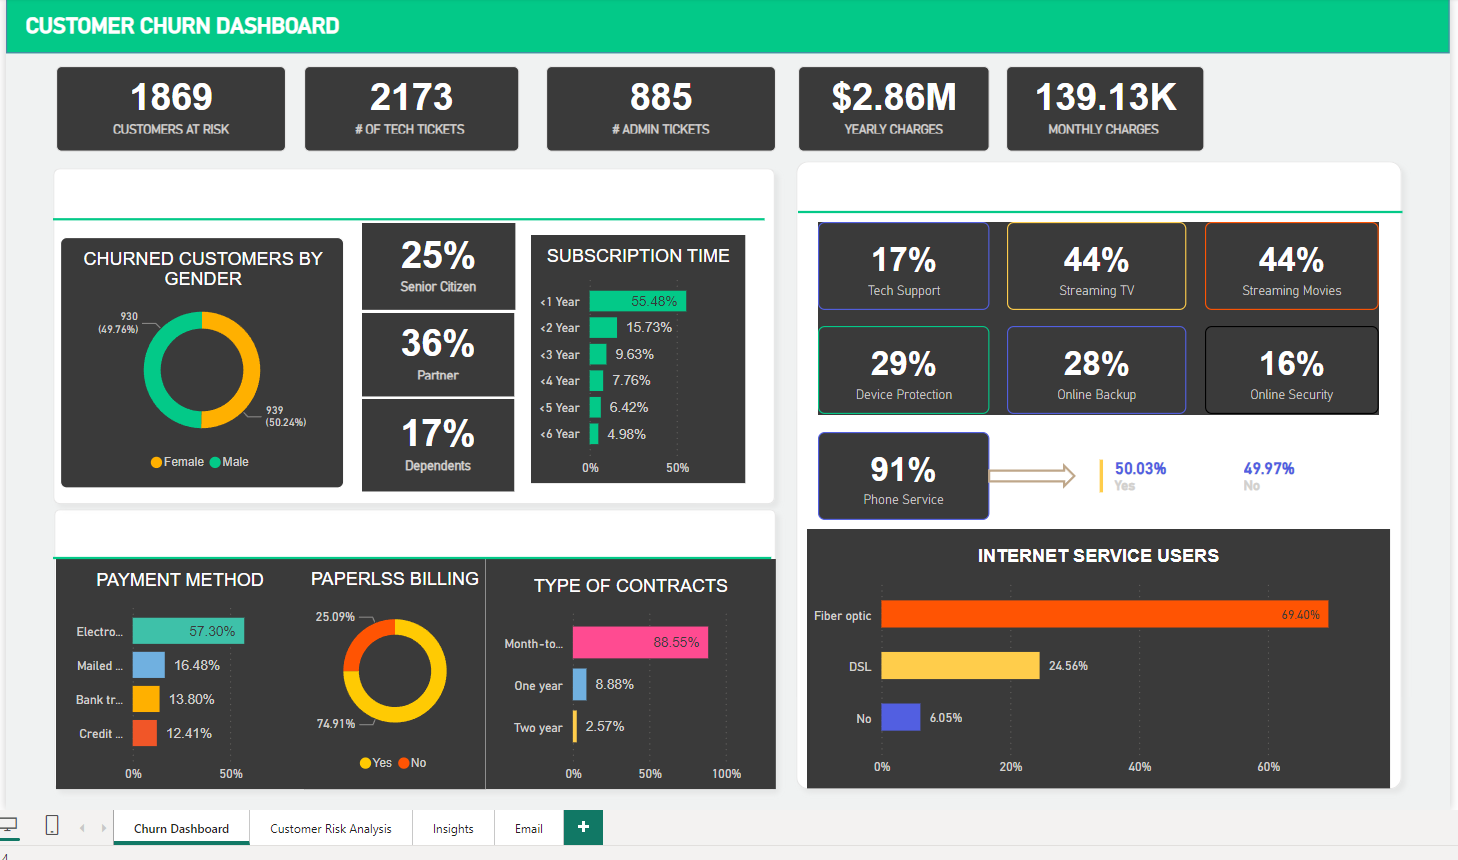

Layout of this report page (visuals, bound fields, positions):
{"tool":"powerbi","page":{"name":"Churn Dashboard","canvas":[1280,720],"ordinal":0},"visuals":[{"type":"shape","box":[0,0,1280,49],"z":0},{"type":"shape","box":[32.8,141.9,658,316],"z":0,"group":"g1"},{"type":"card","fields":{"Values":["Churn.% Tech Support"]},"box":[720,199,152.4,78.4],"z":0,"group":"g4"},{"type":"shape","box":[692,136,555,575],"z":1000},{"type":"card","fields":{"Values":["Churn.% Streaming TV"]},"box":[887.4,199,159.5,78.4],"z":1000,"group":"g4"},{"type":"donutChart","title":"CHURNED CUSTOMERS BY GENDER","fields":{"Category":["01 Churn-Dataset.gender"],"Y":["CountNonNull(01 Churn-Dataset.gender)"]},"box":[48,212.1,251.8,223.4],"z":1000,"group":"g1"},{"type":"shape","box":[702,123,536,133],"z":1500,"group":"g3"},{"type":"shape","box":[42,430,636.8,133],"z":1500,"group":"g2"},{"type":"textbox","box":[12,8,438,33],"z":2000},{"type":"textbox","box":[703.8,145,522.6,38],"z":2000,"group":"g3"},{"type":"textbox","box":[41.5,152,630.9,47.3],"z":2000,"group":"g1"},{"type":"card","fields":{"Values":["Churn.% Streaming Movies"]},"box":[1062.8,199,154.2,78.4],"z":2000,"group":"g4"},{"type":"textbox","box":[44.2,452,636.8,38],"z":2000,"group":"g2"},{"type":"card","fields":{"Values":["Churn.% of Senior Citizen"]},"box":[315.8,199.6,135.7,77.1],"z":3000,"group":"g1"},{"type":"card","fields":{"Values":["Churn.% Device Protection"]},"box":[720,291.6,152.4,78.4],"z":3000,"group":"g4"},{"type":"shape","box":[34,444,658,267],"z":3000},{"type":"card","fields":{"Values":["CountNonNull(01 Churn-Dataset.customerID)"]},"box":[44,60,204,76],"z":4000},{"type":"card","fields":{"Values":["Churn.% of partner"]},"box":[315.8,279.5,134.8,74.5],"z":4000,"group":"g1"},{"type":"card","fields":{"Values":["Churn.% Online Backup"]},"box":[887.4,291.6,159.5,78.4],"z":4000,"group":"g4"},{"type":"shape","box":[41.5,157,630.9,78.5],"z":5000,"group":"g1"},{"type":"card","fields":{"Values":["Churn.% Online Sec"]},"box":[1062.8,291.6,154.2,78.4],"z":5000,"group":"g4"},{"type":"card","fields":{"Values":["Churn.% Phone Service"]},"box":[720,385,152,78],"z":5000},{"type":"card","fields":{"Values":["Sum(01 Churn-Dataset.numTechTickets)"]},"box":[264,60,191,76],"z":6000},{"type":"card","fields":{"Values":["Churn.% of Dependents"]},"box":[315.8,355.7,134.8,81.6],"z":6000,"group":"g1"},{"type":"clusteredBarChart","title":"SUBSCRIPTION TIME","fields":{"Y":["CountNonNull(Churn.Churn)"],"Category":["Churn.Tenure(in years)"]},"box":[465.7,210.3,190.5,220.4],"z":7000,"group":"g1"},{"type":"clusteredBarChart","title":"PAYMENT METHOD","fields":{"Y":["CountNonNull(Churn.PaymentMethod)"],"Category":["Churn.PaymentMethod"]},"box":[44,497,220,204],"z":7000},{"type":"card","fields":{"Values":["Sum(01 Churn-Dataset.TotalCharges)"]},"box":[702,60,170,76],"z":8000},{"type":"card","fields":{"Values":["Sum(01 Churn-Dataset.numAdminTickets)"]},"box":[479,60,204,76],"z":9000},{"type":"group","id":"g1","title":"Group 1","box":[32.8,141.9,658,316],"z":10000},{"type":"card","fields":{"Values":["Sum(01 Churn-Dataset.MonthlyCharges)"]},"box":[887,60,176,76],"z":11000},{"type":"donutChart","title":"PAPERLSS BILLING","fields":{"Category":["Churn.PaperlessBilling"],"Y":["CountNonNull(Churn.PaperlessBilling)"]},"box":[264.2,496.6,161.4,204.8],"z":12000},{"type":"clusteredBarChart","title":"TYPE OF CONTRACTS","fields":{"Category":["Churn.Contract"],"Y":["CountNonNull(Churn.Contract)"]},"box":[426,497,257,204],"z":14000},{"type":"group","id":"g2","title":"Group 2","box":[42,430,639,133],"z":15000},{"type":"group","id":"g3","title":"Group 2","box":[702,123,536,133],"z":16000},{"type":"group","id":"g4","title":"Group 3","box":[720,199,497,171],"z":17000},{"type":"shape","box":[871,412,78,23],"z":18000},{"type":"textbox","box":[872,391,300,30],"z":19000},{"type":"multiRowCard","fields":{"Values":["Churn.% Yes-Multiple Lines","Churn.% No-Multiple Lines"]},"box":[965,404,252,53],"z":20000},{"type":"barChart","title":"INTERNET SERVICE USERS","fields":{"Y":["CountNonNull(Churn.InternetService)"],"Category":["Churn.InternetService"]},"box":[710,471,517,230],"z":21000}]}

Visuals, with their boxes on the page's 1280x720 design canvas (x1, y1, x2, y2). These are canvas units, not pixel positions in the 1458x860 screenshot, which may show the page scaled, cropped or inside an application window:
shape: {"x1": 0, "y1": 0, "x2": 1280, "y2": 49}
shape: {"x1": 33, "y1": 142, "x2": 691, "y2": 458}
card - Churn.% Tech Support: {"x1": 720, "y1": 199, "x2": 872, "y2": 277}
shape: {"x1": 692, "y1": 136, "x2": 1247, "y2": 711}
card - Churn.% Streaming TV: {"x1": 887, "y1": 199, "x2": 1047, "y2": 277}
"CHURNED CUSTOMERS BY GENDER" donutChart: {"x1": 48, "y1": 212, "x2": 300, "y2": 436}
shape: {"x1": 702, "y1": 123, "x2": 1238, "y2": 256}
shape: {"x1": 42, "y1": 430, "x2": 679, "y2": 563}
textbox: {"x1": 12, "y1": 8, "x2": 450, "y2": 41}
textbox: {"x1": 704, "y1": 145, "x2": 1226, "y2": 183}
textbox: {"x1": 42, "y1": 152, "x2": 672, "y2": 199}
card - Churn.% Streaming Movies: {"x1": 1063, "y1": 199, "x2": 1217, "y2": 277}
textbox: {"x1": 44, "y1": 452, "x2": 681, "y2": 490}
card - Churn.% of Senior Citizen: {"x1": 316, "y1": 200, "x2": 452, "y2": 277}
card - Churn.% Device Protection: {"x1": 720, "y1": 292, "x2": 872, "y2": 370}
shape: {"x1": 34, "y1": 444, "x2": 692, "y2": 711}
card - CountNonNull(01 Churn-Dataset.customerID): {"x1": 44, "y1": 60, "x2": 248, "y2": 136}
card - Churn.% of partner: {"x1": 316, "y1": 280, "x2": 451, "y2": 354}
card - Churn.% Online Backup: {"x1": 887, "y1": 292, "x2": 1047, "y2": 370}
shape: {"x1": 42, "y1": 157, "x2": 672, "y2": 236}
card - Churn.% Online Sec: {"x1": 1063, "y1": 292, "x2": 1217, "y2": 370}
card - Churn.% Phone Service: {"x1": 720, "y1": 385, "x2": 872, "y2": 463}
card - Sum(01 Churn-Dataset.numTechTickets): {"x1": 264, "y1": 60, "x2": 455, "y2": 136}
card - Churn.% of Dependents: {"x1": 316, "y1": 356, "x2": 451, "y2": 437}
"SUBSCRIPTION TIME" clusteredBarChart: {"x1": 466, "y1": 210, "x2": 656, "y2": 431}
"PAYMENT METHOD" clusteredBarChart: {"x1": 44, "y1": 497, "x2": 264, "y2": 701}
card - Sum(01 Churn-Dataset.TotalCharges): {"x1": 702, "y1": 60, "x2": 872, "y2": 136}
card - Sum(01 Churn-Dataset.numAdminTickets): {"x1": 479, "y1": 60, "x2": 683, "y2": 136}
"Group 1" group: {"x1": 33, "y1": 142, "x2": 691, "y2": 458}
card - Sum(01 Churn-Dataset.MonthlyCharges): {"x1": 887, "y1": 60, "x2": 1063, "y2": 136}
"PAPERLSS BILLING" donutChart: {"x1": 264, "y1": 497, "x2": 426, "y2": 701}
"TYPE OF CONTRACTS" clusteredBarChart: {"x1": 426, "y1": 497, "x2": 683, "y2": 701}
"Group 2" group: {"x1": 42, "y1": 430, "x2": 681, "y2": 563}
"Group 2" group: {"x1": 702, "y1": 123, "x2": 1238, "y2": 256}
"Group 3" group: {"x1": 720, "y1": 199, "x2": 1217, "y2": 370}
shape: {"x1": 871, "y1": 412, "x2": 949, "y2": 435}
textbox: {"x1": 872, "y1": 391, "x2": 1172, "y2": 421}
multiRowCard - Churn.% Yes-Multiple Lines x Churn.% No-Multiple Lines: {"x1": 965, "y1": 404, "x2": 1217, "y2": 457}
"INTERNET SERVICE USERS" barChart: {"x1": 710, "y1": 471, "x2": 1227, "y2": 701}
